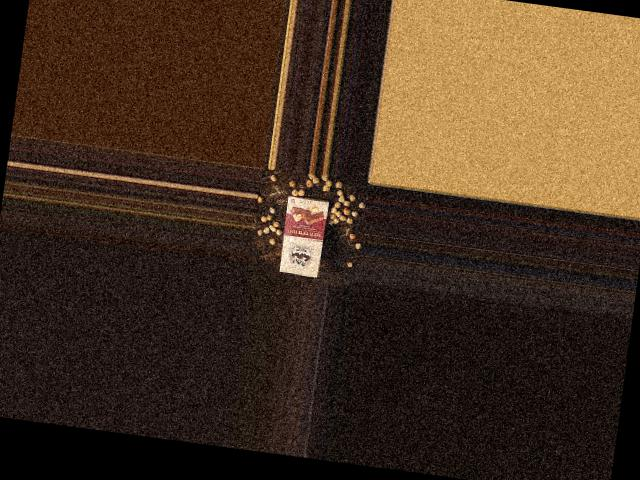chocolate: (275, 193, 333, 280)
